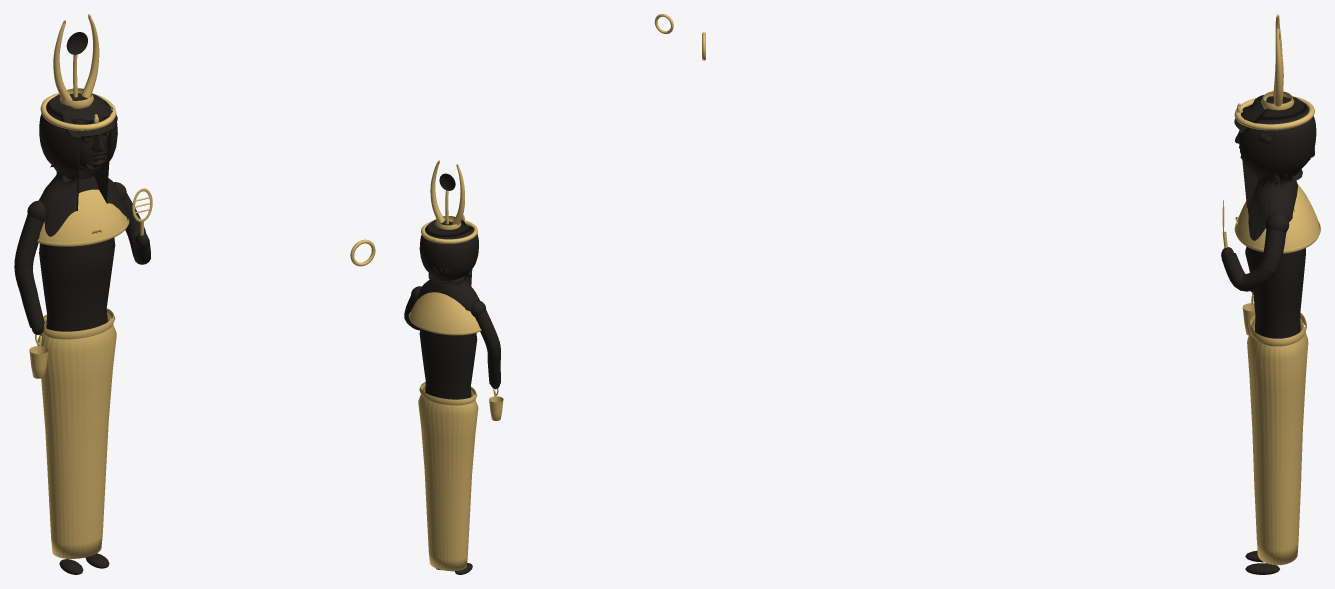
File: isis.glb
3 views of the same model, side by side, from view 1: azimuth 30°, elevation 25°; view 2: azimuth 150°, elevation 25°; view 3: azimuth 270°, elevation 25° (orthographic). The views are drawn at different scales.
Visible parts, largest first — view 1: isis-gold, isis-black; view 2: isis-gold, isis-black; view 3: isis-gold, isis-black.
Part boxes in pixels (x1,y1,x2,y2): isis-gold: (29, 14, 375, 558); isis-black: (14, 32, 150, 574); isis-gold: (408, 14, 673, 571); isis-black: (404, 173, 500, 574); isis-gold: (702, 14, 1320, 565); isis-black: (1221, 34, 1316, 574).
Bounding box in the file's own units: 0.4858 × 2 × 2.05.
